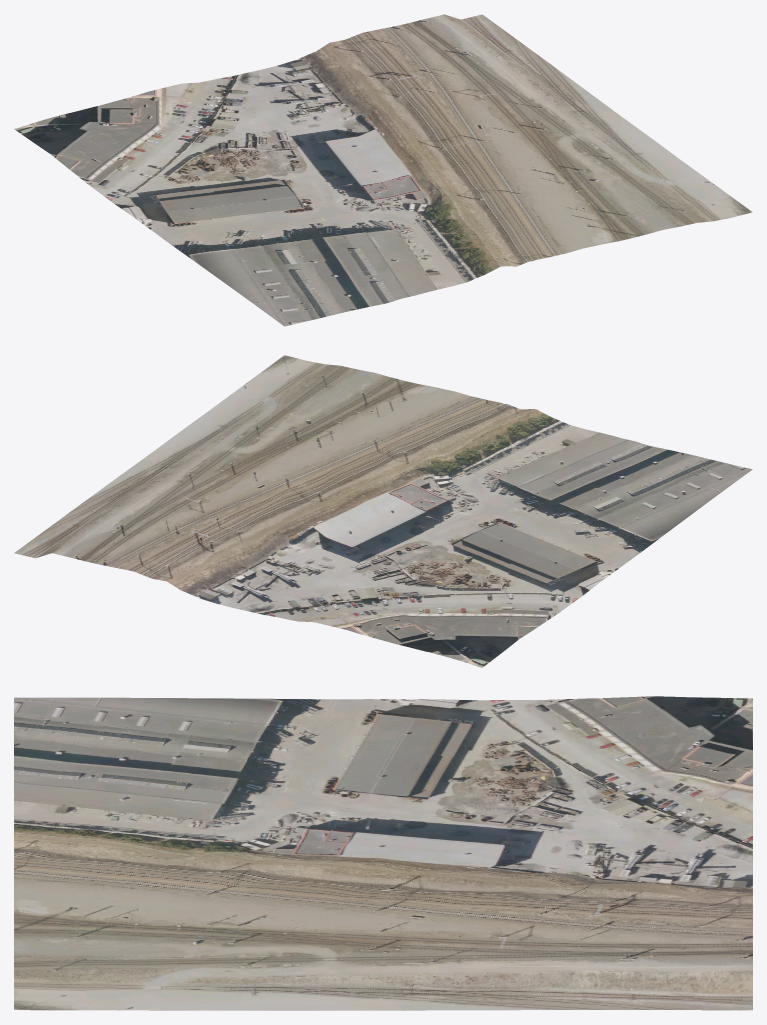
The model's file is CM_Terrain_24487797_6819589.fbx.
3 views of the same model, one above another, from view 1: azimuth 30°, elevation 25°; view 2: azimuth 150°, elevation 25°; view 3: azimuth 270°, elevation 25° (orthographic). The views are drawn at different scales.
Parts seen in each view (by area): view 1: CM_Terrain_24487797_6819589_LOD0; view 2: CM_Terrain_24487797_6819589_LOD0; view 3: CM_Terrain_24487797_6819589_LOD0.
Part boxes in pixels (<box>): CM_Terrain_24487797_6819589_LOD0: <box>14,14,752,326</box>; CM_Terrain_24487797_6819589_LOD0: <box>14,355,752,667</box>; CM_Terrain_24487797_6819589_LOD0: <box>14,696,752,1010</box>.
Size of what is drawn, in the model's own units: 205 by 5.32 by 205.
